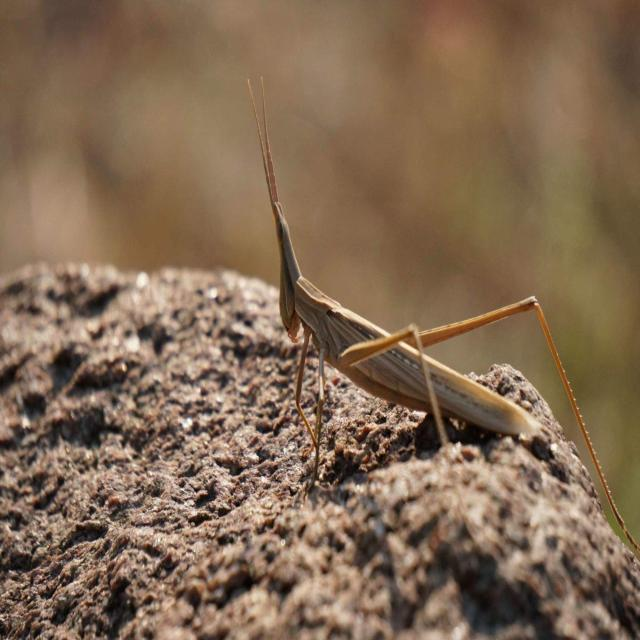ZhaMeng: (225, 62, 596, 499)
